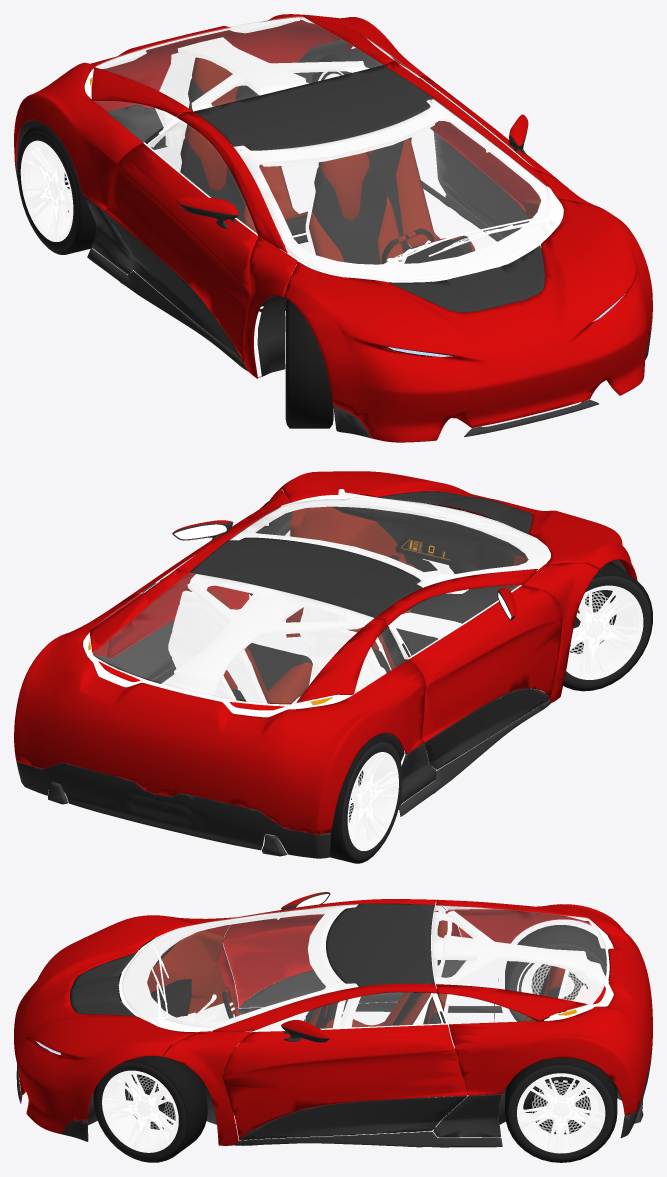
File: car.glb
3 renders of one model, top to bottom at view 1: azimuth 30°, elevation 25°; view 2: azimuth 150°, elevation 25°; view 3: azimuth 270°, elevation 25°, orthographic. The views are drawn at different scales.
Parts seen in each view (by area): view 1: BodyHood, BodyWindshield, BodyRearPanelsColor1, BodyRearwindow, BodyDoorRColor1, BodyRoofPanel, BodyWindshieldGasket, InteriorSeatsColor1, InteriorSeatsColor2, BodyPillars, BodyPanelsColor2, InteriorPillar (+15 smaller); view 2: BodyRearPanelsColor1, BodyRearwindow, BodyWindshield, BodyPanelsColor2, BodyDoorRColor1, BodyRoofPanel, InteriorPillar, BodyHood, BodyPillars, InteriorDashMid, InteriorSeatsFrame1, BodyWindshieldGasket (+17 smaller); view 3: BodyRearPanelsColor1, BodyWindshield, BodyDoorLColor1, BodyHood, BodyRearwindow, BodyRoofPanel, BodyPillars, BodyPanelsColor2, BodyWindshieldGasket, BodyDoorLColor2, BodyDoorRColor1, InteriorPillar (+23 smaller).
Part boxes in pixels (box(x1,y1,x2,y2)): BodyHood: box(283, 198, 652, 442); BodyWindshield: box(234, 98, 549, 280); BodyRearPanelsColor1: box(14, 14, 434, 210); BodyRearwindow: box(95, 16, 382, 110); BodyDoorRColor1: box(104, 143, 257, 363); BodyRoofPanel: box(193, 65, 432, 150); BodyWindshieldGasket: box(234, 99, 563, 282); InteriorSeatsColor1: box(185, 57, 475, 279); InteriorSeatsColor2: box(180, 78, 472, 312); BodyPillars: box(176, 61, 598, 378); BodyPanelsColor2: box(15, 91, 651, 438); InteriorPillar: box(155, 37, 434, 168); BodyRearPanelsColor1: box(14, 569, 425, 834); BodyRearwindow: box(92, 573, 373, 703); BodyWindshield: box(229, 497, 547, 587); BodyPanelsColor2: box(16, 666, 550, 858); BodyDoorRColor1: box(409, 585, 562, 742); BodyRoofPanel: box(189, 537, 422, 617); InteriorPillar: box(171, 574, 417, 701); BodyHood: box(279, 471, 637, 580); BodyPillars: box(175, 489, 599, 702); InteriorDashMid: box(331, 503, 528, 623); InteriorSeatsFrame1: box(168, 591, 384, 712); BodyWindshieldGasket: box(230, 497, 550, 587); BodyRearPanelsColor1: box(436, 899, 652, 1115); BodyWindshield: box(122, 904, 357, 1028); BodyDoorLColor1: box(222, 1024, 467, 1140); BodyHood: box(14, 915, 196, 1133); BodyRearwindow: box(432, 905, 606, 1003); BodyRoofPanel: box(326, 903, 434, 986); BodyPillars: box(163, 899, 437, 1145); BodyPanelsColor2: box(16, 978, 652, 1147); BodyWindshieldGasket: box(118, 905, 357, 1032); BodyDoorLColor2: box(240, 1096, 467, 1140); BodyDoorRColor1: box(223, 909, 460, 1007); InteriorPillar: box(321, 910, 613, 1027).
Bounding box in the file's own units: 2.54 × 1.15 × 4.36.
Materials: 20 (2 with a texture image).
